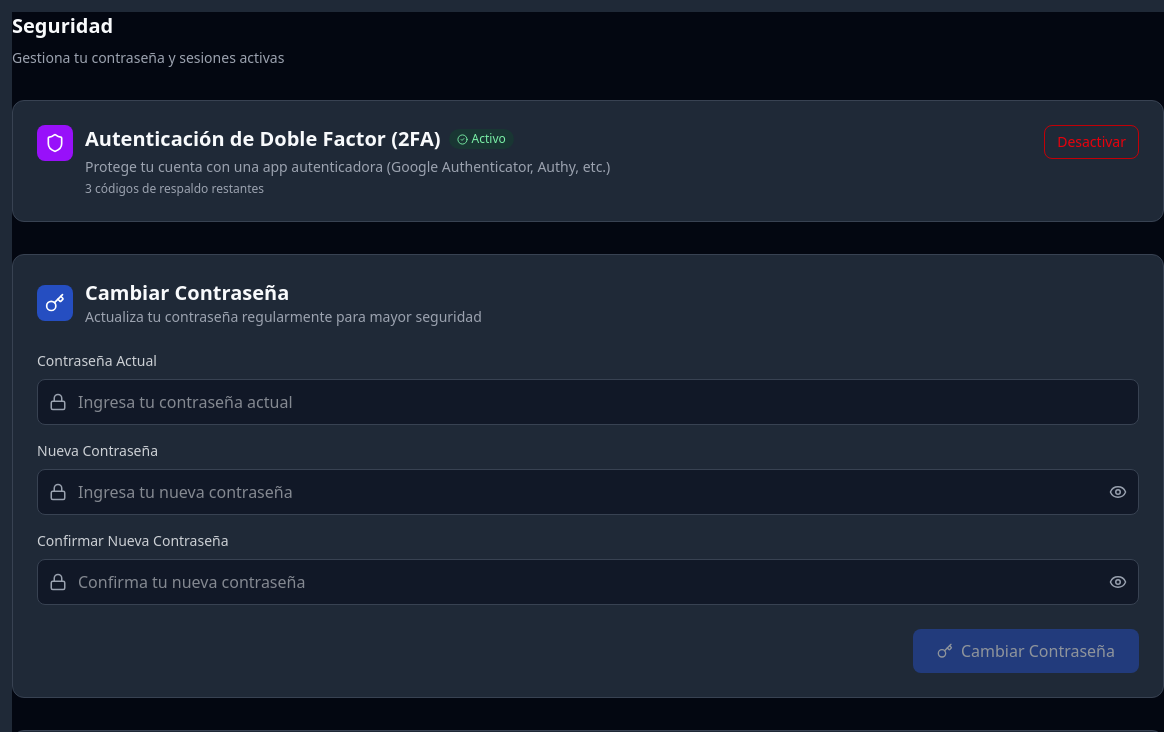
Test: SeguridadComponent fortaleza de contraseña › "abc" -> Falta: Mínimo 8 caracteres, Una mayúscula, Un número
The image size is (1164, 732).
Type "abc" into the password field with placeholder "Ingresa tu nueva contraseña" at (588, 492), box [37, 469, 1139, 515]
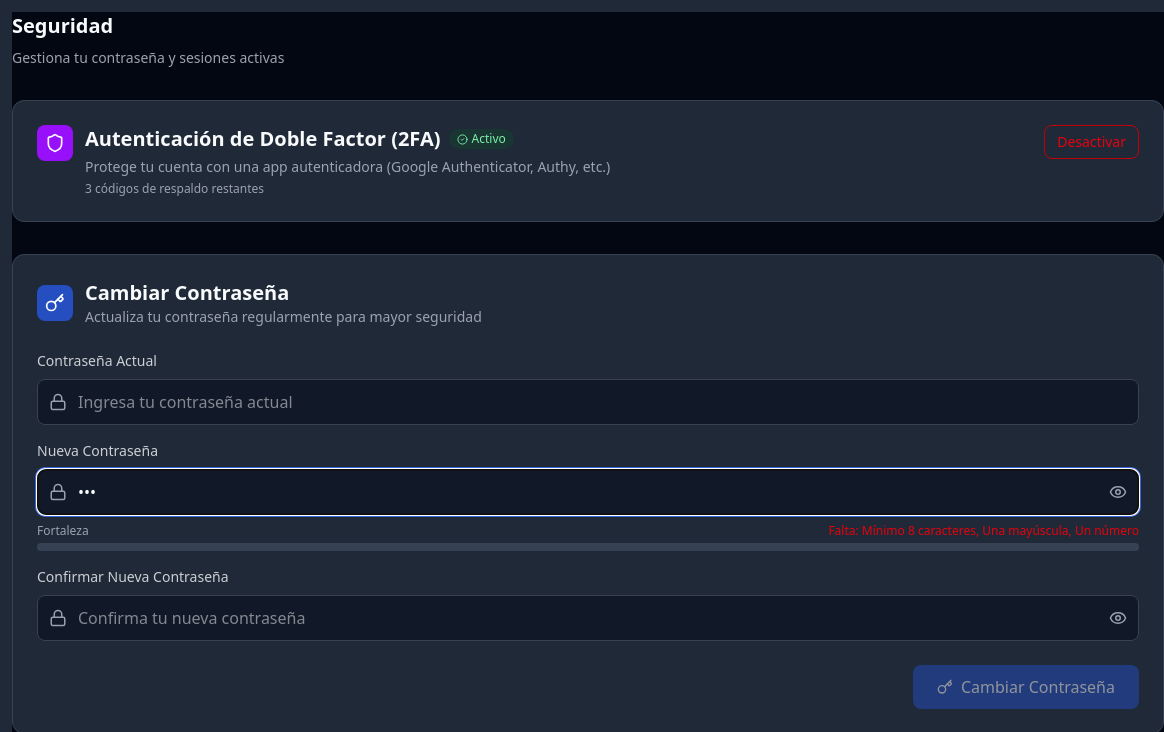
Now the text "Falta: Mínimo 8 caracteres, Una mayúscula, Un número" is shown, box [828, 523, 1139, 539]
